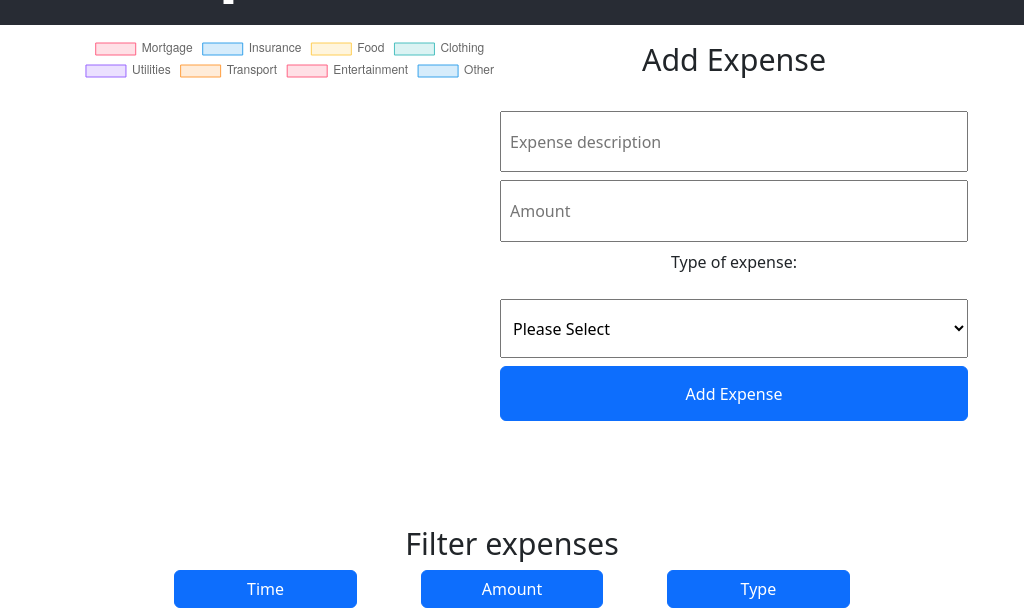
Test: Expense Tracker › should delete an expense
Type "test expense 1" into the field with placeholder "Expense description".
click(734, 142); type("test expense 1")  # box [500, 111, 968, 172]
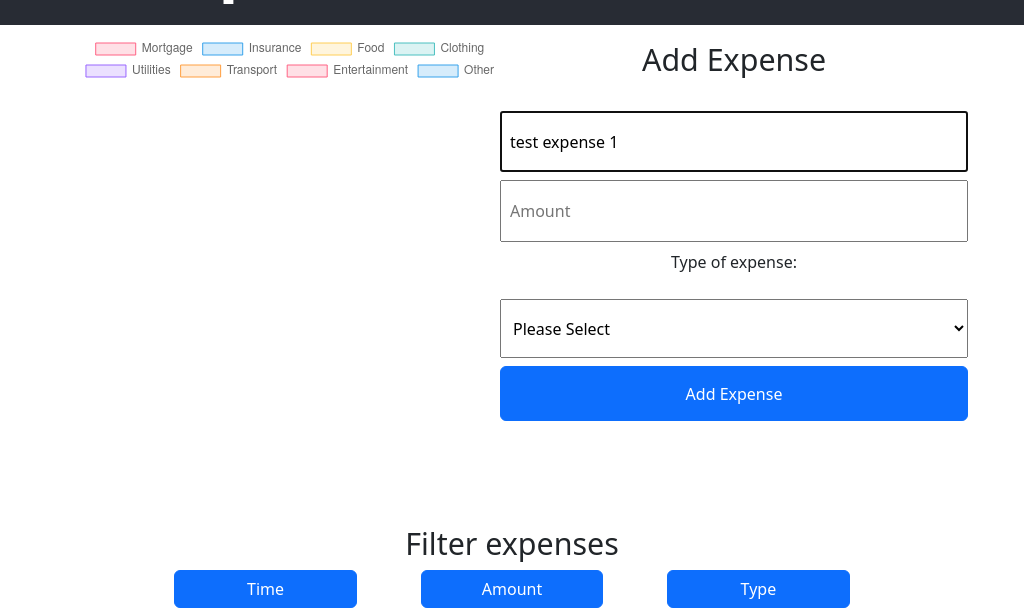
Type "1000" into the field with placeholder "Amount".
click(734, 211); type("1000")  # box [500, 180, 968, 241]
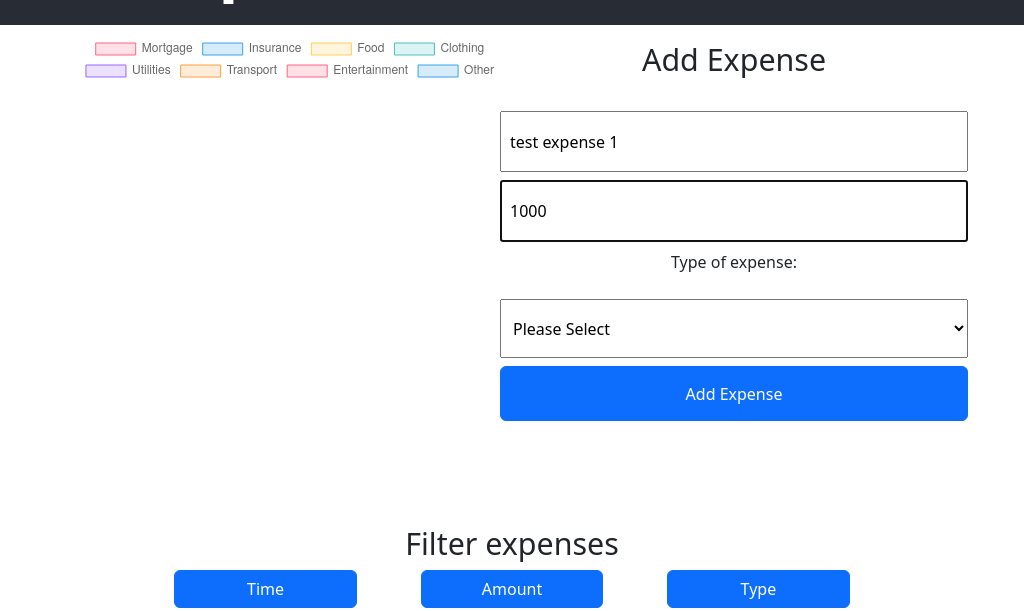
Select "Mortgage" in the dropdown labelled "Type of expense:" at (734, 329), box [500, 299, 968, 358]
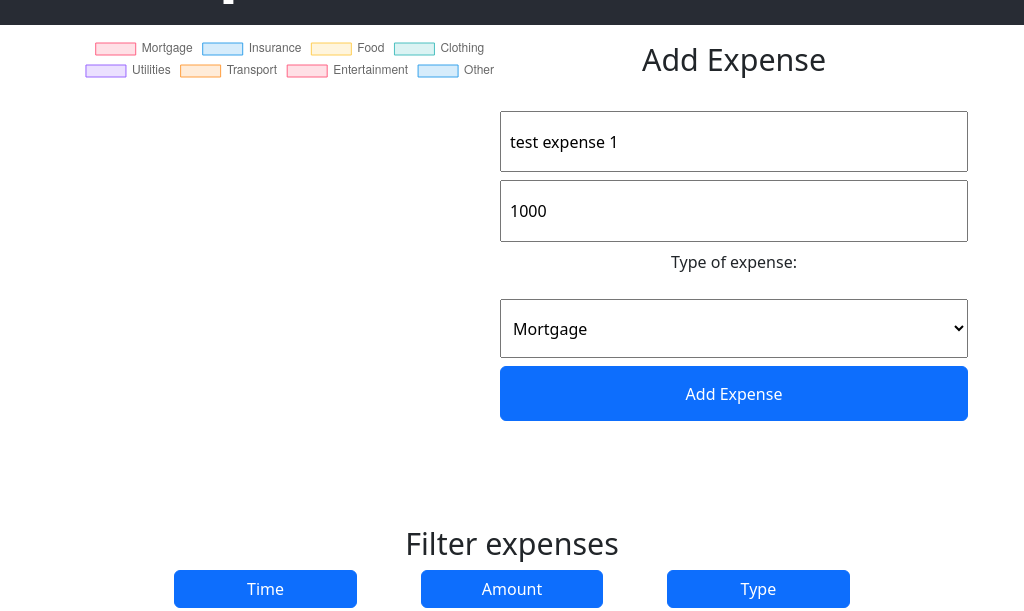
Click the button "Add Expense".
click(734, 394)  # box [500, 366, 968, 421]
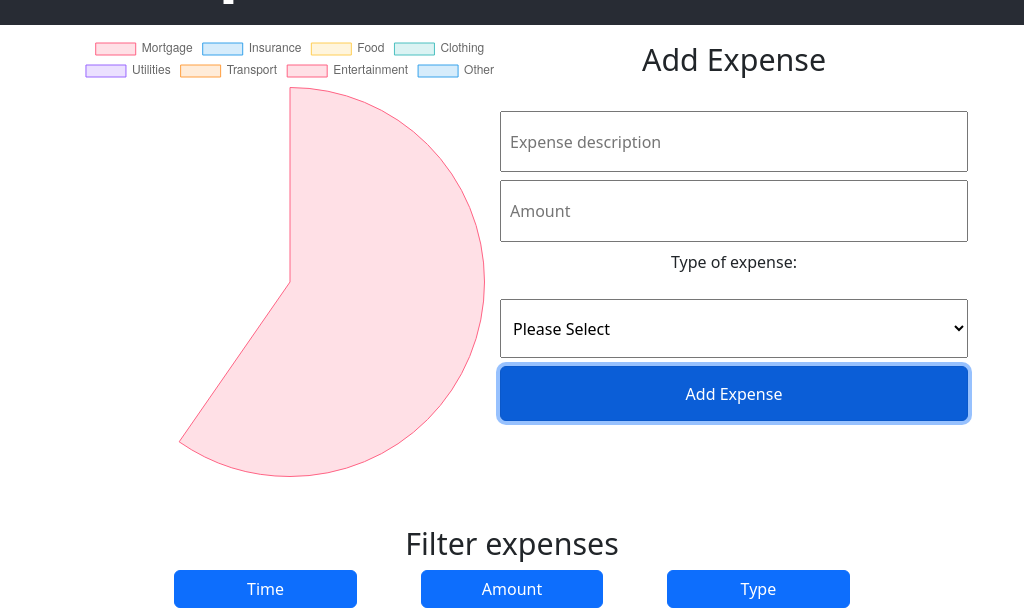
Scroll
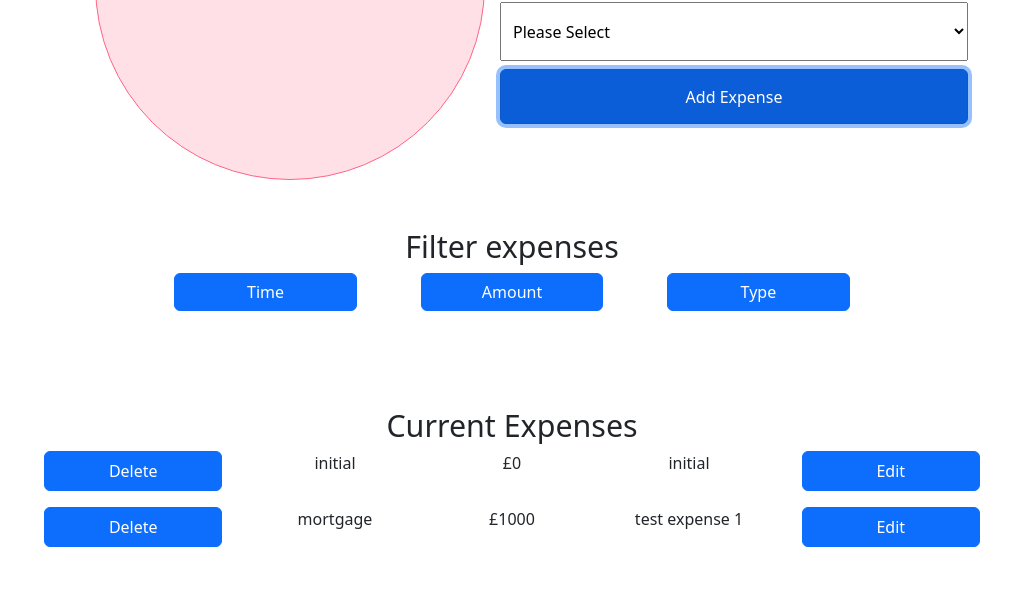
Click the button "Delete" next to "mortgage".
click(134, 527)  # box [44, 507, 223, 547]
(page scrolled)
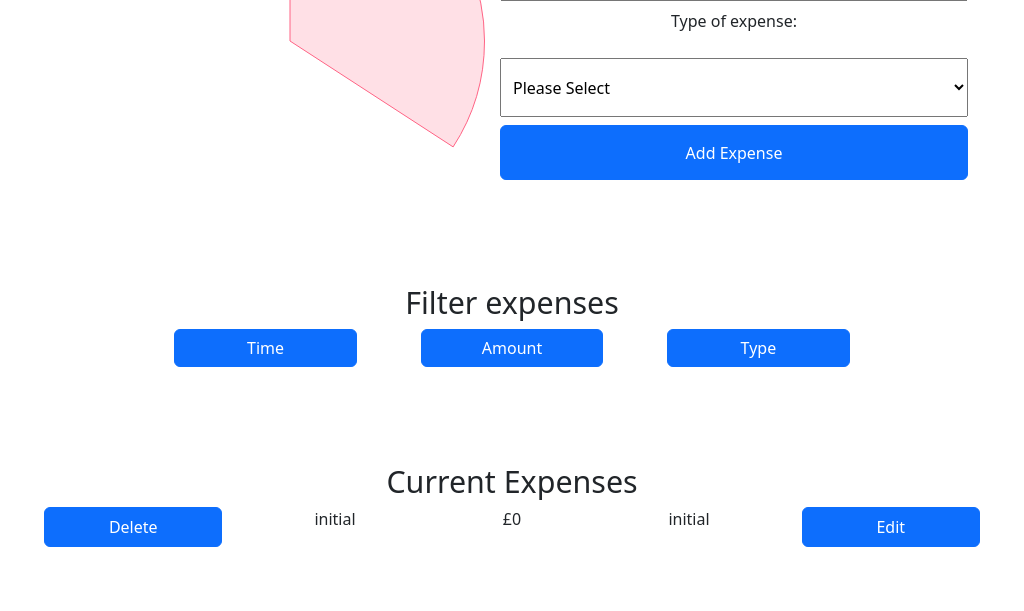
Check: the number of list items is 1, box [44, 507, 980, 563]
